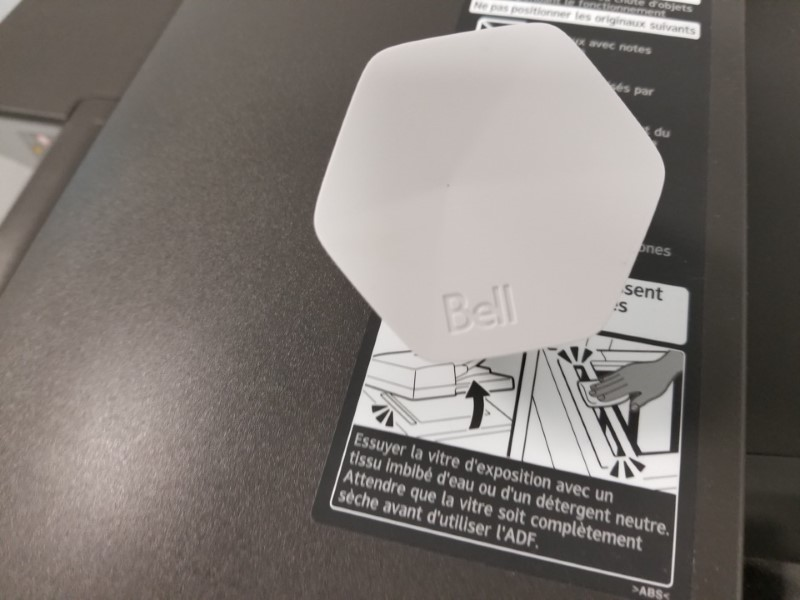pod: (305, 22, 671, 351)
